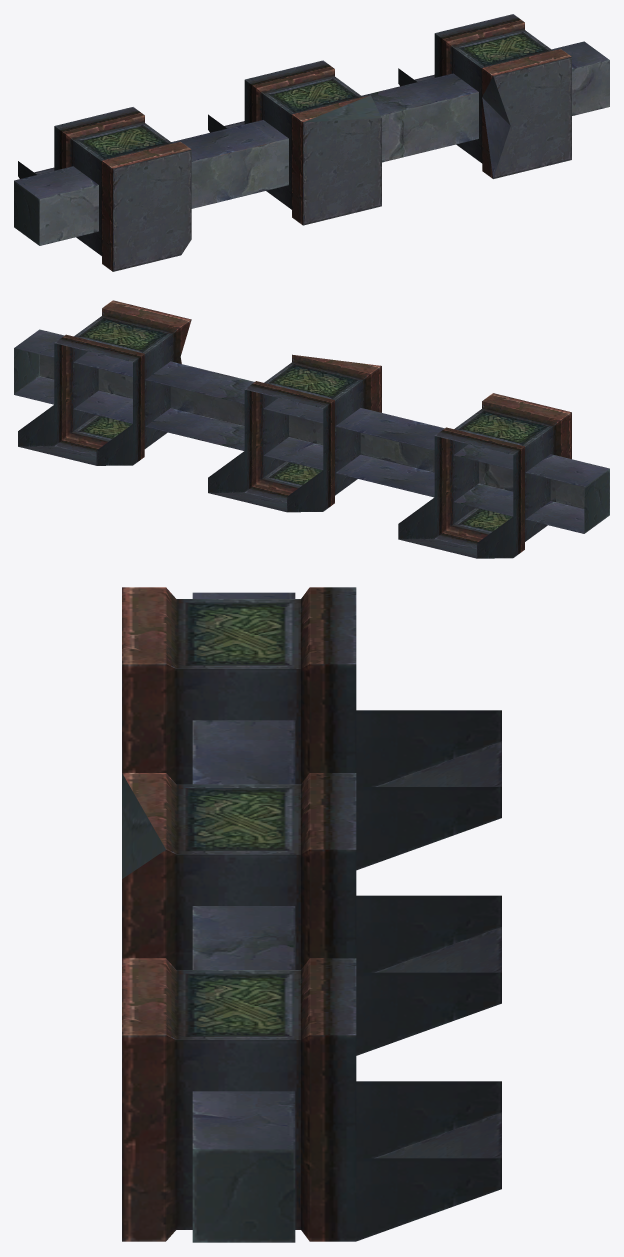
The model's file is zhanchan_fuben_367_zhuzi_03.obj.
3 views of the same model, one above another, from view 1: azimuth 30°, elevation 25°; view 2: azimuth 150°, elevation 25°; view 3: azimuth 270°, elevation 25° (orthographic). The views are drawn at different scales.
Visible parts, largest first — view 1: zhanchang_fuben_367_zhuzi_03; view 2: zhanchang_fuben_367_zhuzi_03; view 3: zhanchang_fuben_367_zhuzi_03.
Part boxes in pixels (box(x1,y1,x2,y2)): zhanchang_fuben_367_zhuzi_03: box(14, 14, 609, 271); zhanchang_fuben_367_zhuzi_03: box(14, 300, 609, 558); zhanchang_fuben_367_zhuzi_03: box(122, 587, 501, 1242).
Bounding box in the file's own units: 512 × 88.46 × 148.
Materials: 1 (1 with a texture image).
